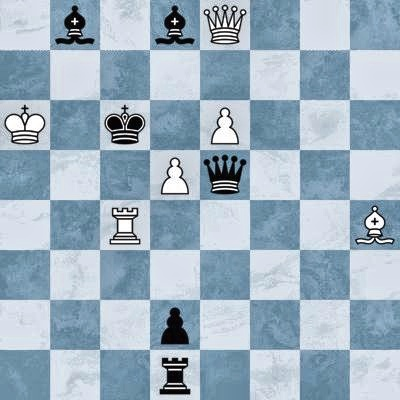black-bishop: (50, 0, 100, 50), (150, 0, 200, 50)
black-king: (100, 100, 150, 150)
black-pawn: (150, 300, 200, 350)
black-queen: (200, 150, 250, 200)
black-rook: (150, 350, 200, 400)
white-bishop: (350, 200, 400, 250)
white-king: (0, 100, 50, 150)
white-pawn: (200, 100, 250, 150), (150, 150, 200, 200)
white-queen: (200, 0, 250, 50)
white-rook: (100, 200, 150, 250)
